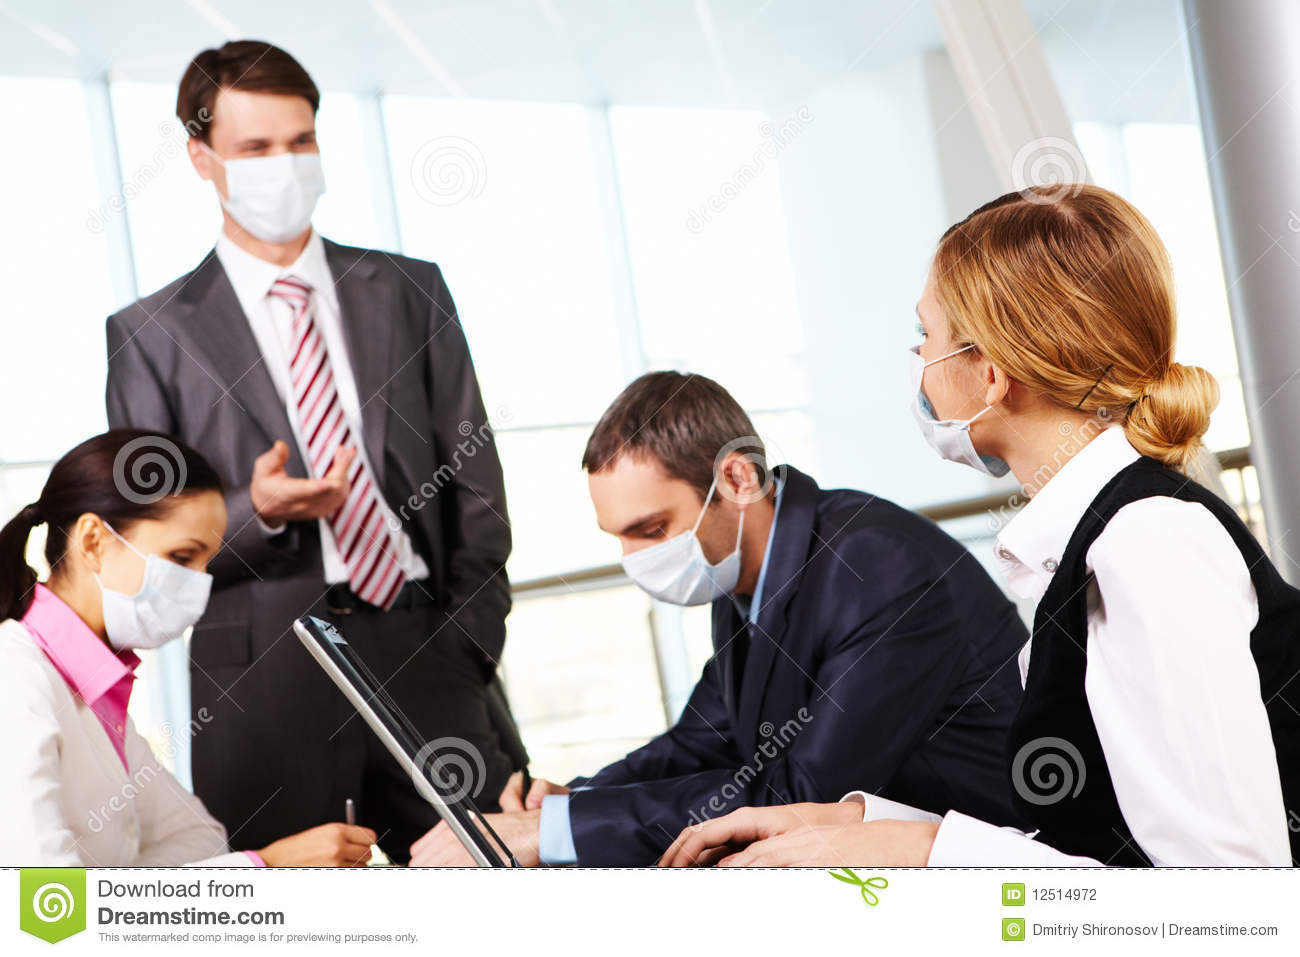mask: (91, 551, 222, 664), (600, 541, 756, 619), (217, 146, 341, 242)
